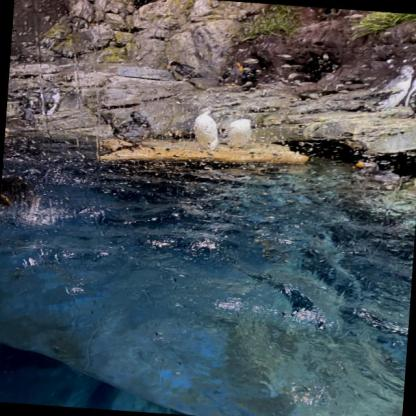puffin: (366, 60, 416, 115), (110, 109, 155, 153), (0, 168, 34, 226), (187, 103, 224, 156), (349, 157, 405, 190), (216, 110, 255, 154), (162, 58, 206, 86), (218, 57, 252, 91), (35, 84, 64, 118)
